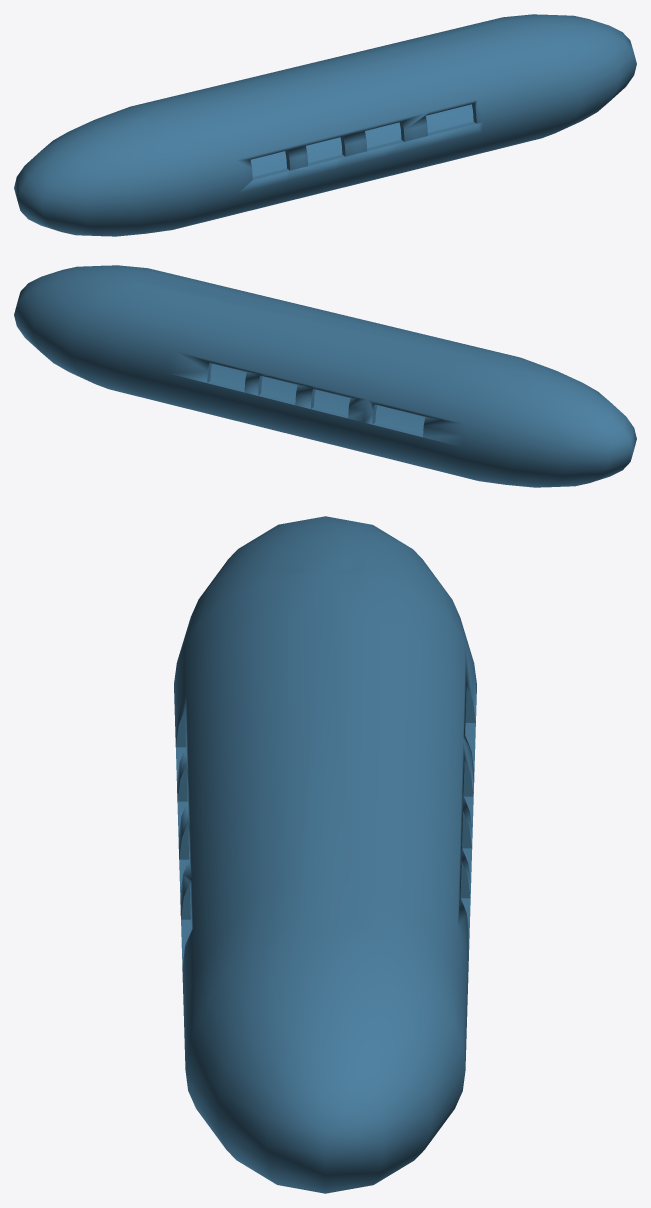
The model's file is wagon_scene_pod (1).fbx.
3 renders of one model, top to bottom at view 1: azimuth 30°, elevation 25°; view 2: azimuth 150°, elevation 25°; view 3: azimuth 270°, elevation 25°, orthographic. The views are drawn at different scales.
Parts seen in each view (by area): view 1: Sphere.001; view 2: Sphere.001; view 3: Sphere.001.
Boxes of the visible parts, x1,y1,x2,y2 form: Sphere.001: (14,14,636,236); Sphere.001: (14,265,636,487); Sphere.001: (174,516,476,1193).
Size of the model in its own units: 3352 by 580 by 715.
